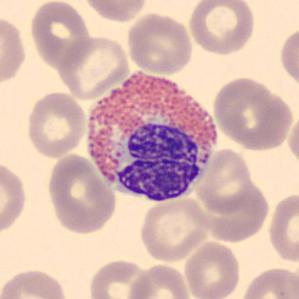Eosinophil: (78, 59, 224, 211)
RBC: (211, 76, 294, 152), (44, 152, 119, 236), (137, 194, 212, 264), (56, 33, 131, 101), (125, 10, 195, 76), (28, 0, 94, 69), (24, 89, 89, 159), (204, 180, 270, 246), (194, 146, 256, 216), (186, 0, 257, 57), (181, 238, 242, 299), (86, 257, 153, 299), (125, 261, 192, 299), (266, 190, 299, 265), (0, 266, 71, 299), (0, 158, 28, 238), (0, 12, 28, 90), (238, 264, 298, 299), (80, 0, 148, 23), (278, 23, 298, 91), (285, 109, 299, 170)
